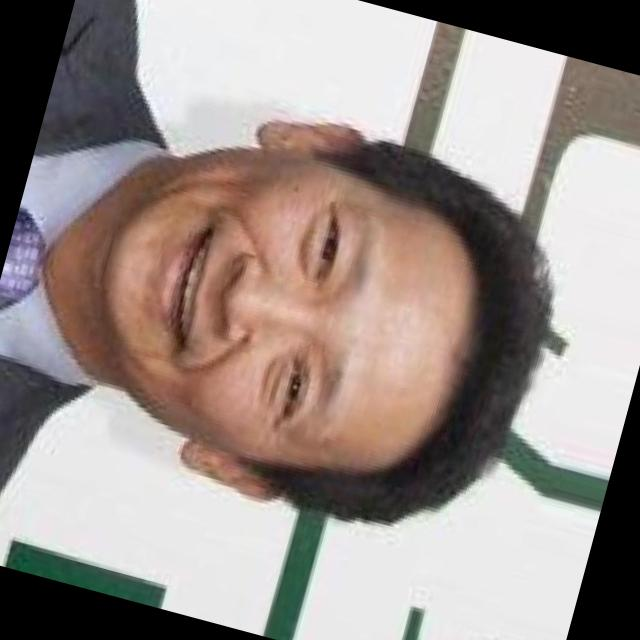bareface: (61, 82, 568, 522)
